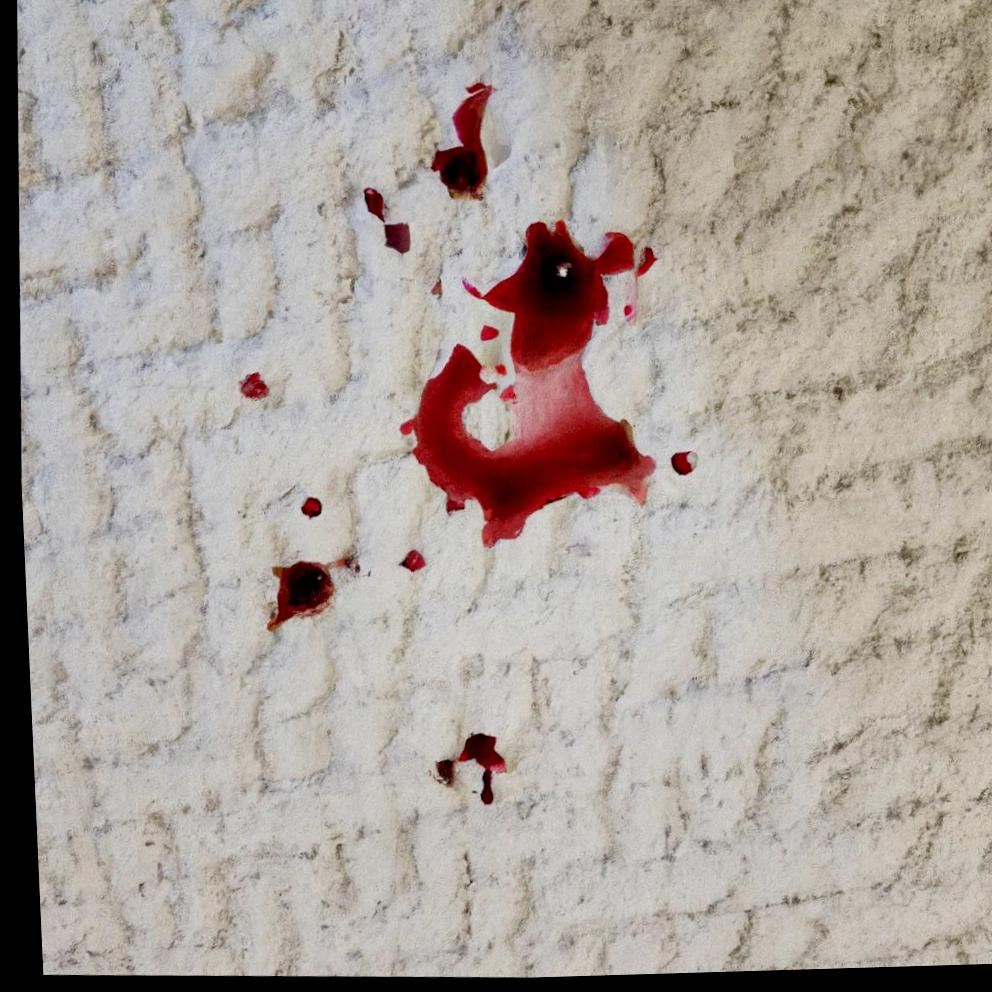Fire: (395, 223, 652, 553), (427, 86, 492, 205), (262, 562, 330, 635), (450, 735, 500, 808), (362, 190, 388, 227), (381, 225, 408, 258), (425, 763, 451, 792), (393, 552, 421, 575), (666, 455, 689, 480), (297, 499, 318, 522)
